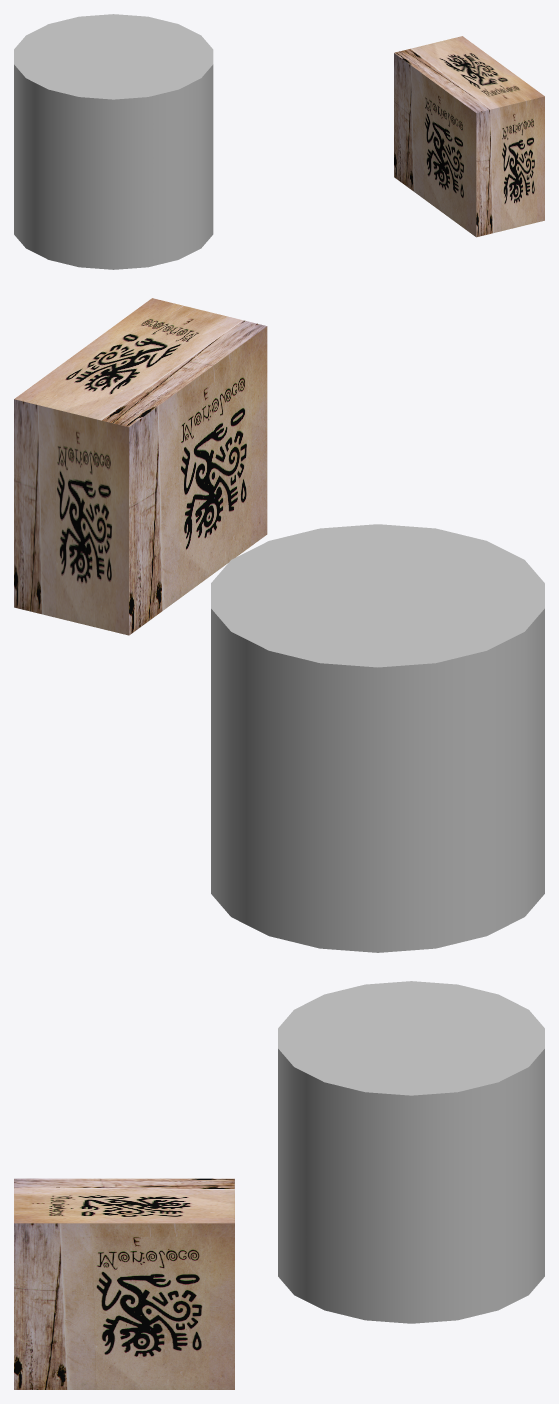
File: multi-mesh-2texture.dae
3 renders of one model, top to bottom at view 1: azimuth 30°, elevation 25°; view 2: azimuth 150°, elevation 25°; view 3: azimuth 270°, elevation 25°, orthographic. The views are drawn at different scales.
Visible parts, largest first — view 1: Cylinder01, Box01; view 2: Cylinder01, Box01; view 3: Cylinder01, Box01.
Part boxes in pixels (x1=…): Cylinder01: x1=14, y1=14, x2=213, y2=269; Box01: x1=394, y1=36, x2=544, y2=237; Cylinder01: x1=211, y1=524, x2=544, y2=952; Box01: x1=14, y1=298, x2=267, y2=635; Cylinder01: x1=278, y1=981, x2=544, y2=1323; Box01: x1=14, y1=1178, x2=234, y2=1389.
Bounding box in the file's own units: 103 × 95.41 × 45.23.
